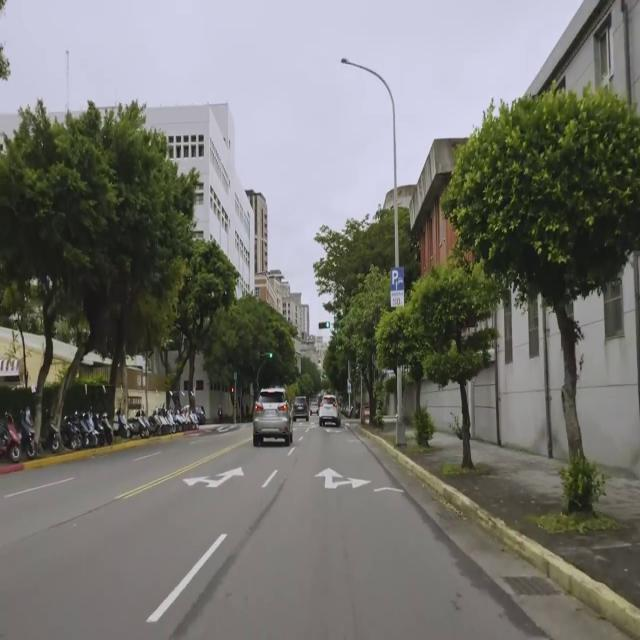green light: (318, 321, 331, 329), (264, 352, 273, 359)
